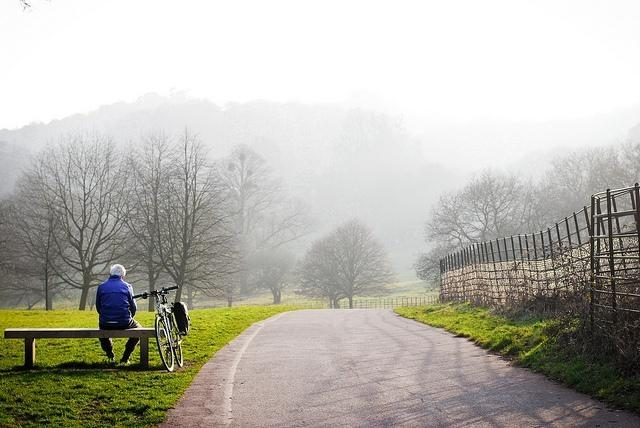bicycle: (132, 285, 186, 373)
